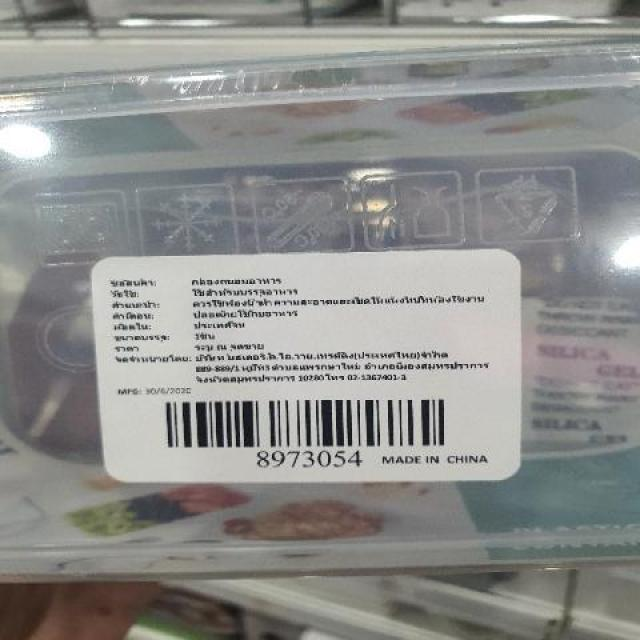Barcode: (151, 394, 460, 470)
